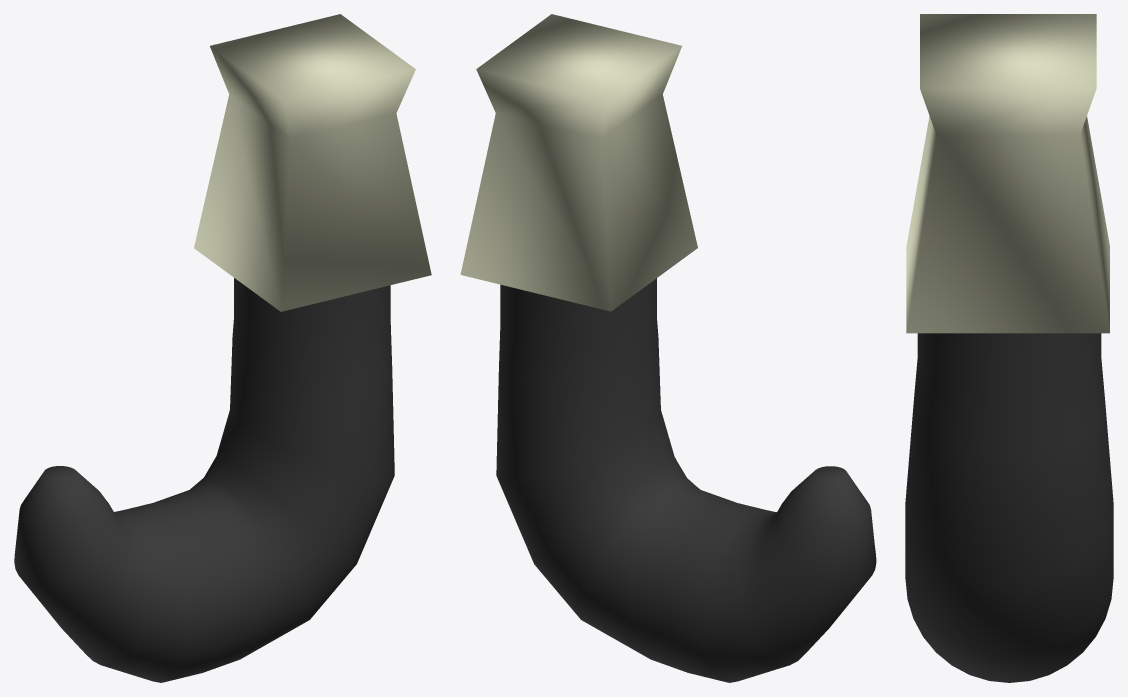
File: Crane_CableHook.fbx
3 views of the same model, side by side, from view 1: azimuth 30°, elevation 25°; view 2: azimuth 150°, elevation 25°; view 3: azimuth 270°, elevation 25° (orthographic). The views are drawn at different scales.
Parts seen in each view (by area): view 1: Crane_CableHook; view 2: Crane_CableHook; view 3: Crane_CableHook.
Boxes of the visible parts, x1,y1,x2,y2 form: Crane_CableHook: (14, 14, 431, 682); Crane_CableHook: (460, 14, 876, 682); Crane_CableHook: (905, 14, 1113, 682).
Size of the model in its own units: 5.1 by 7.74 by 2.16.
